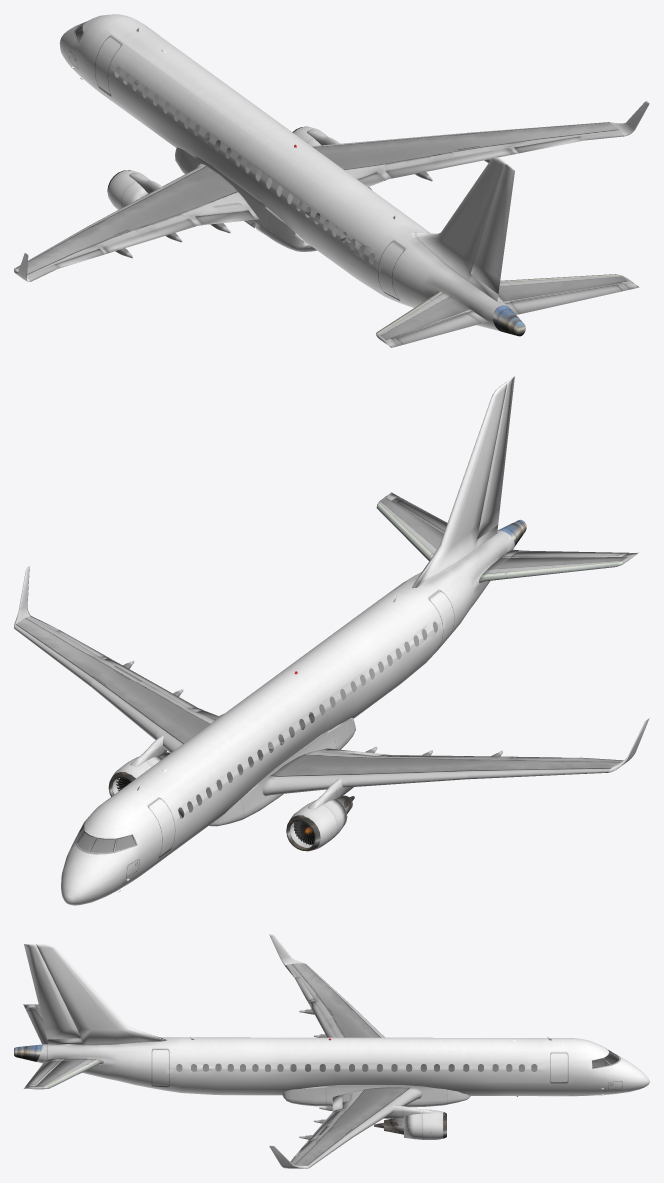
3 renders of one model, top to bottom at view 1: azimuth 30°, elevation 25°; view 2: azimuth 150°, elevation 25°; view 3: azimuth 270°, elevation 25°, orthographic. The views are drawn at different scales.
Parts seen in each view (by area): view 1: fuselage_001, vstab, hstab, wing_004, fuselage, wing_007, rudder, wing_002, wing_009, wing_003, elevator_r, wing_006 (+9 smaller); view 2: fuselage_001, vstab, hstab, wing_004, wing_007, wing_002, fuselage, wing_009, wing_003, rudder, nacelle_001, wing_006 (+3 smaller); view 3: fuselage_001, vstab, fuselage, rudder, wing_006, wing_002, wing_004, wing_003, hstab, wing_009, cylinder_003, nacelle (+8 smaller).
Boxes of the visible parts, left/top/right/bottom form: fuselage_001: left=59, top=14, right=508, bottom=331; vstab: left=411, top=157, right=506, bottom=301; hstab: left=376, top=274, right=639, bottom=347; wing_004: left=349, top=132, right=492, bottom=178; fuselage: left=175, top=138, right=346, bottom=251; wing_007: left=156, top=163, right=259, bottom=225; rudder: left=470, top=163, right=514, bottom=293; wing_002: left=91, top=189, right=197, bottom=243; wing_009: left=471, top=122, right=624, bottom=154; wing_003: left=15, top=225, right=113, bottom=281; elevator_r: left=510, top=282, right=629, bottom=314; wing_006: left=312, top=143, right=388, bottom=180; fuselage_001: left=61, top=530, right=514, bottom=905; vstab: left=411, top=382, right=506, bottom=588; hstab: left=376, top=492, right=638, bottom=583; wing_004: left=90, top=666, right=198, bottom=740; wing_007: left=262, top=748, right=388, bottom=796; wing_002: left=346, top=755, right=492, bottom=787; fuselage: left=178, top=713, right=355, bottom=826; wing_009: left=14, top=616, right=114, bottom=686; wing_003: left=468, top=756, right=623, bottom=779; rudder: left=477, top=376, right=514, bottom=539; nacelle_001: left=286, top=803, right=337, bottom=851; wing_006: left=156, top=708, right=215, bottom=753; fuselage_001: left=36, top=1036, right=649, bottom=1096; vstab: left=36, top=944, right=166, bottom=1045; fuselage: left=282, top=1064, right=470, bottom=1107; rudder: left=24, top=944, right=81, bottom=1039; wing_006: left=332, top=1087, right=422, bottom=1112; wing_002: left=319, top=1004, right=384, bottom=1037; wing_004: left=319, top=1106, right=392, bottom=1137; wing_003: left=284, top=963, right=351, bottom=1006; hstab: left=23, top=1004, right=103, bottom=1089; wing_009: left=290, top=1133, right=353, bottom=1167; cylinder_003: left=176, top=1064, right=498, bottom=1071; nacelle: left=422, top=1110, right=446, bottom=1139.
Bounding box in the file's own units: 28.2 × 35.83 × 10.22.
